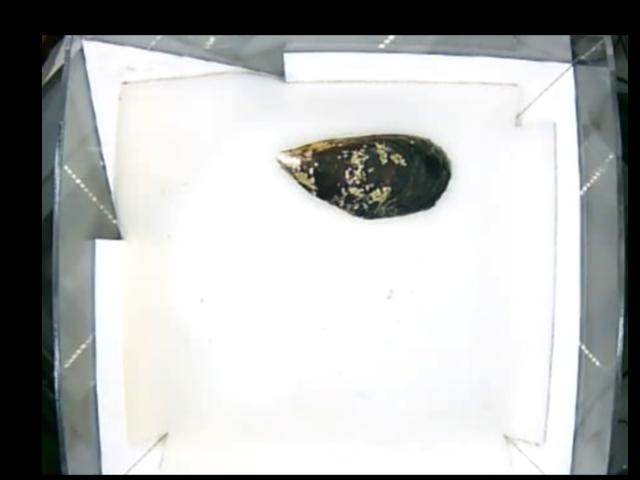Shell: (275, 133, 452, 217)
